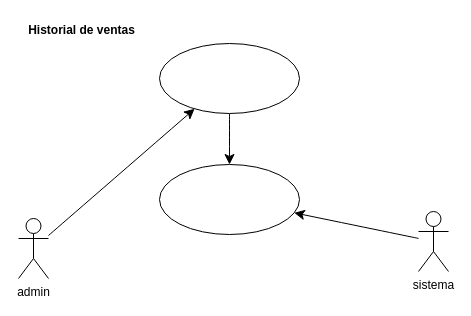
This 471x316 diagram has some shape labels left out. Here are the shapes that lost their labels. From the top down, the centre of each, then its label:
At pixel 229 78: "modulo historial".
At pixel 229 199: "visualzar historial de ventas realizadas".
